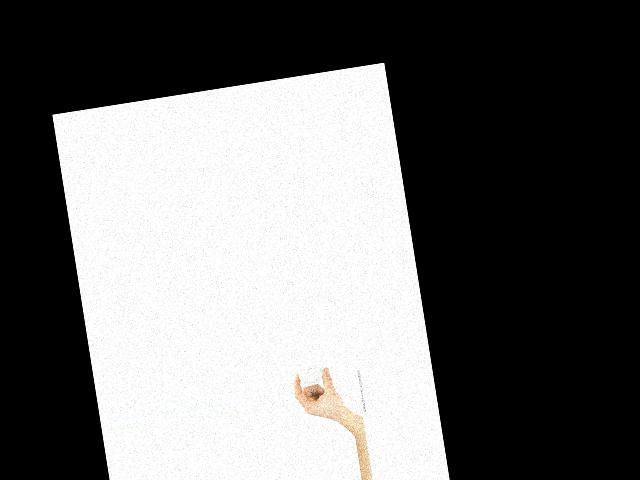egg: (297, 364, 324, 385)
